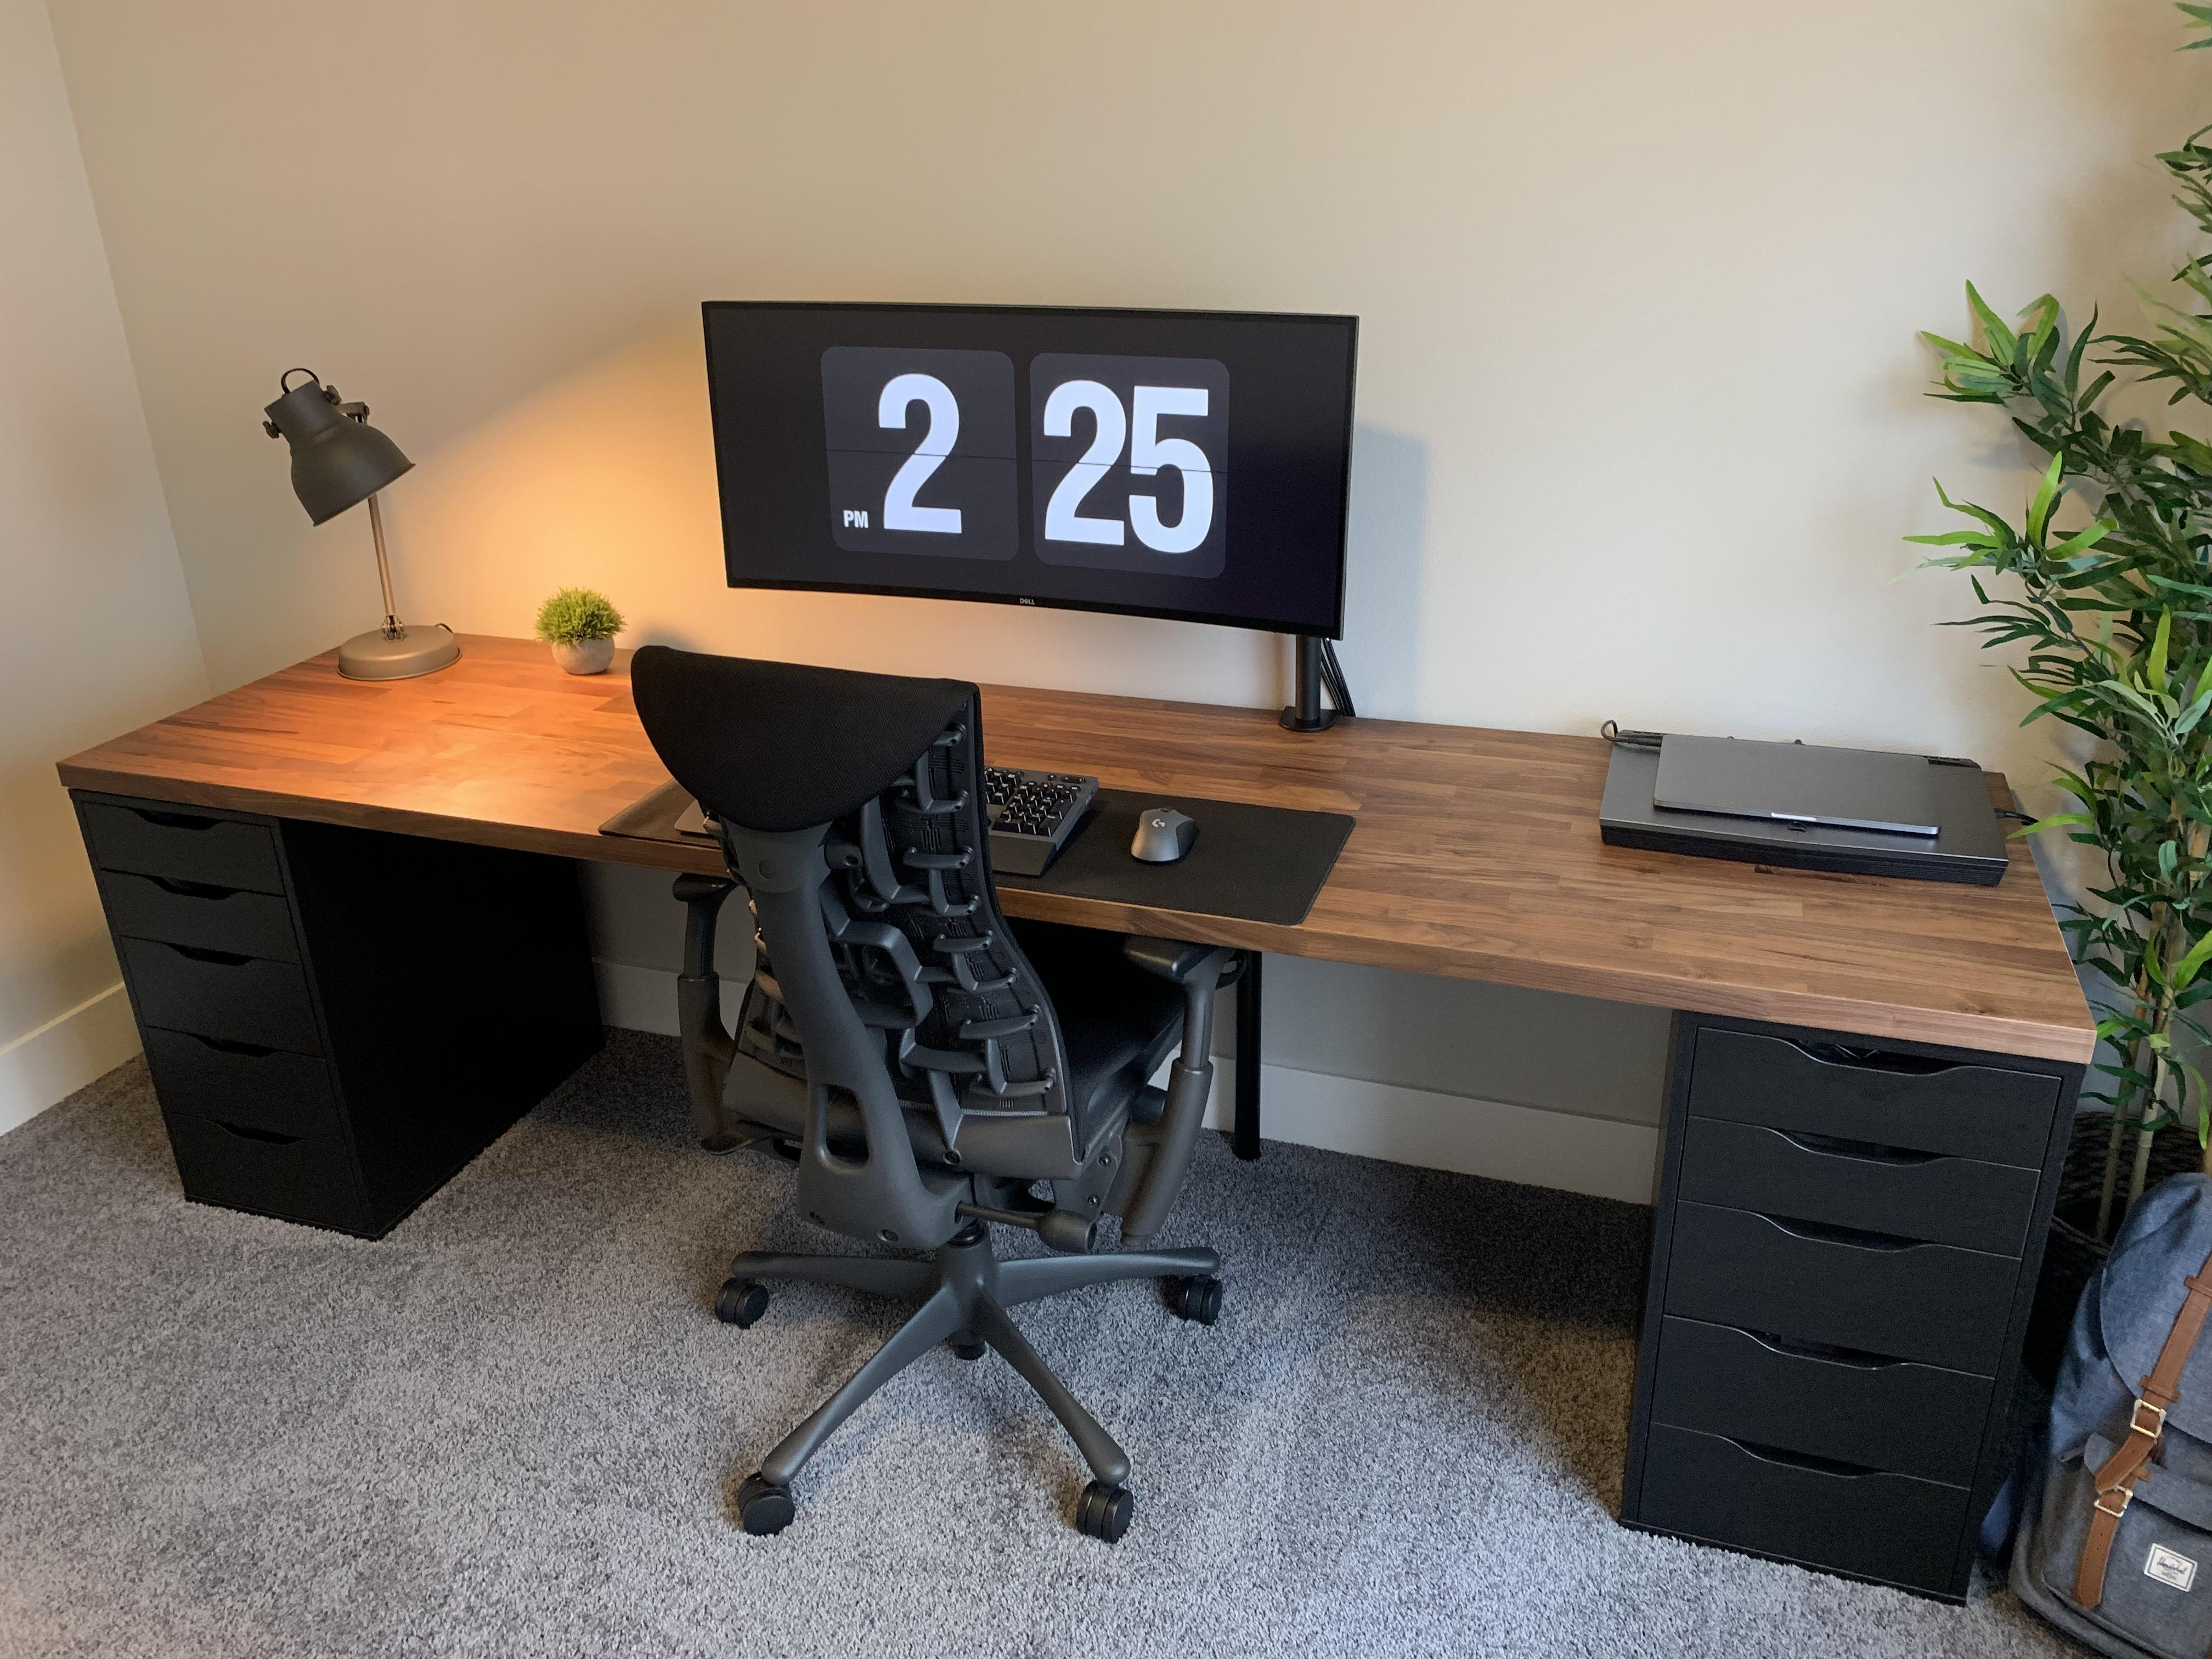Chair (Generic): (632, 638, 1211, 1546)
Decoration (Plant): (1895, 0, 2212, 1338), (533, 589, 624, 676)
Desk (Generic): (56, 636, 2099, 1600)
Keyboard (Ergonomic): (678, 770, 1099, 877)
Lamp (Desk): (249, 369, 474, 673)
Laptop (OSX): (1649, 735, 1949, 836)
Laptop (Windows): (1599, 735, 2010, 892)
Monitor (Landscape): (700, 291, 1366, 634)
Monitor Arm: (1273, 633, 1334, 741)
Mouse (Gaming): (1130, 802, 1200, 871)
Mousepad (Gaming): (597, 775, 1355, 931)
Storage Drawer: (59, 791, 610, 1236), (1639, 1000, 1982, 1605)
